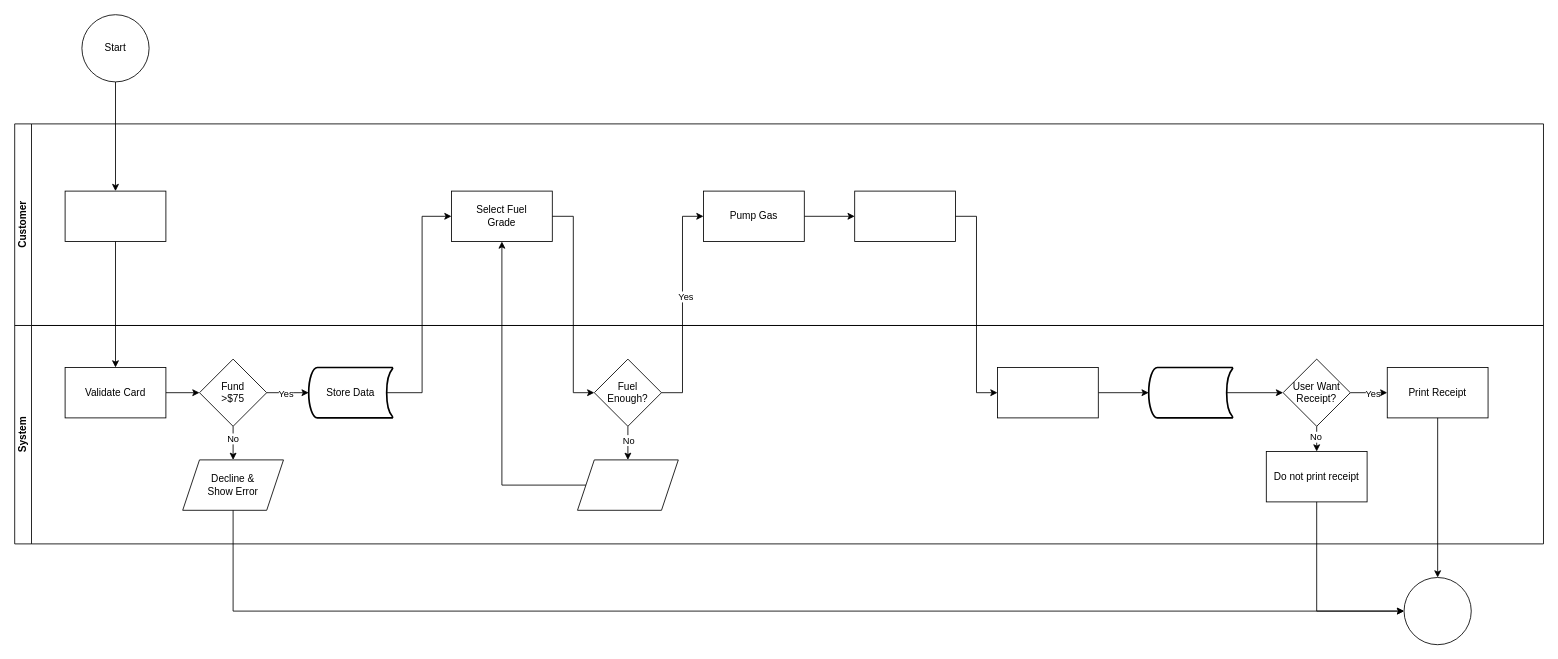
The diagram is 1558 pixels wide and 659 high, and some of its shapes have lost their labels. The box of each missing label's shape, as (x1, y1, x2, y2) in pixels:
Charge Customer Card: (997, 367, 1098, 418)
End: (1403, 577, 1471, 645)
Hang up gas hose: (854, 190, 956, 242)
Inform to select another grade: (577, 459, 678, 510)
Save Transactions: (1147, 366, 1233, 418)
Swipe Card: (64, 190, 166, 242)
